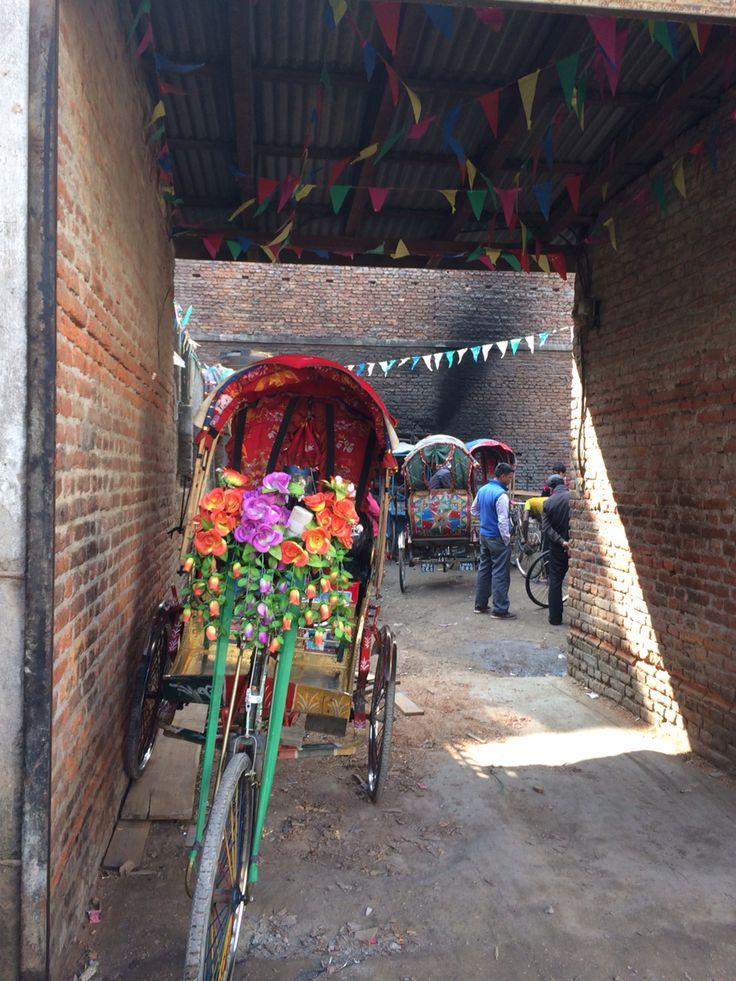Rickshaw: (126, 356, 396, 980), (398, 434, 477, 591), (386, 441, 413, 559), (509, 482, 540, 574), (465, 438, 515, 487)
